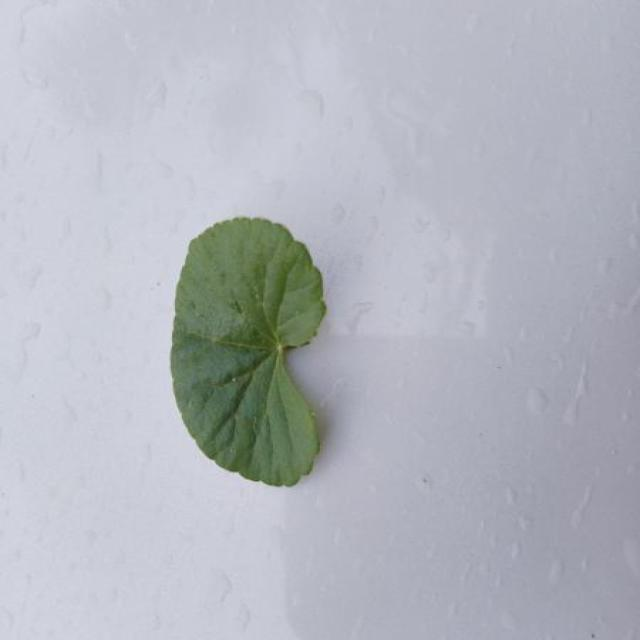bhrami: (170, 218, 327, 486)
